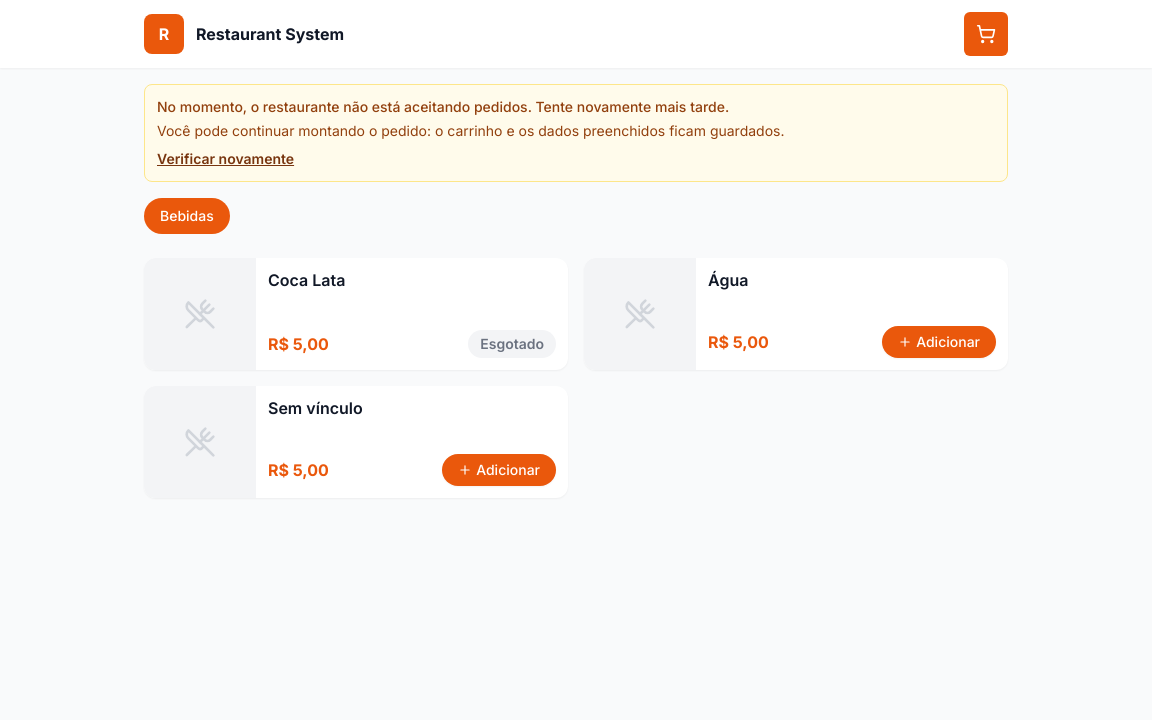
it: public checkout with the cash register closed › a lookup that fails after a closed answer stops blocking the finish button
The image size is (1152, 720).
Expected: the text "No momento, o restaurante não está aceitando pedidos. Tente novamente mais tarde." is shown, [157, 98, 729, 115]
Click the button "Adicionar" below "Água".
click(939, 342)  # box [882, 326, 996, 358]
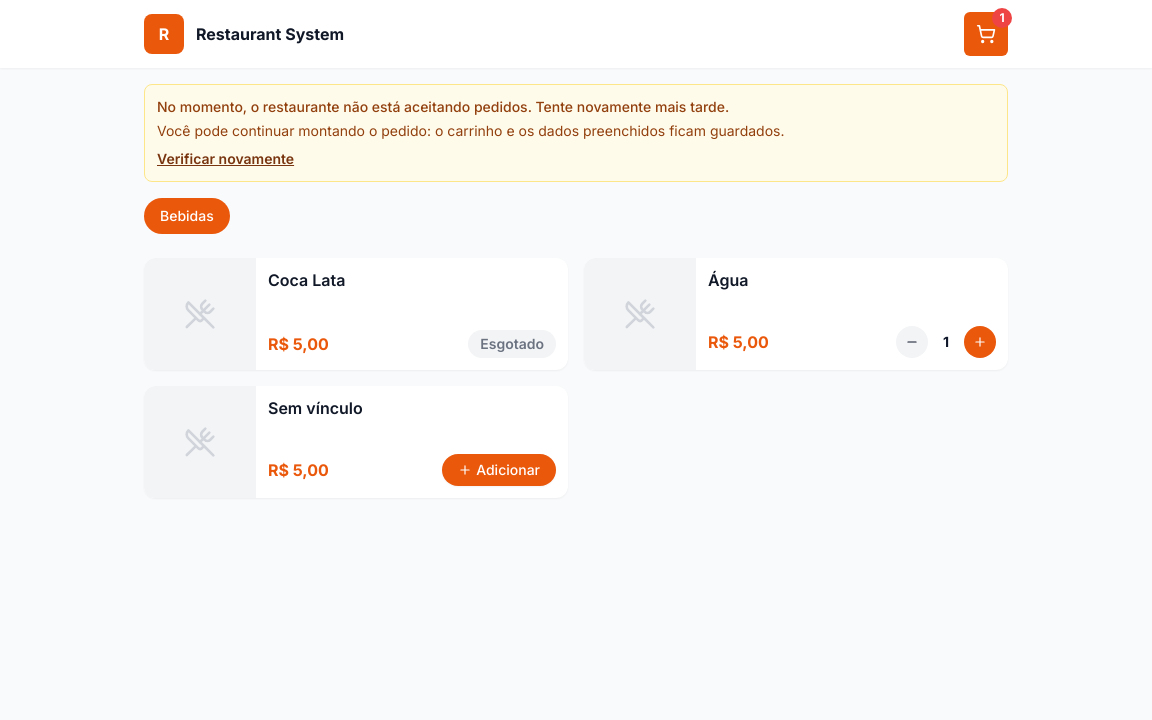
Click the button named "Abrir carrinho".
click(986, 34)  # box [964, 12, 1008, 56]
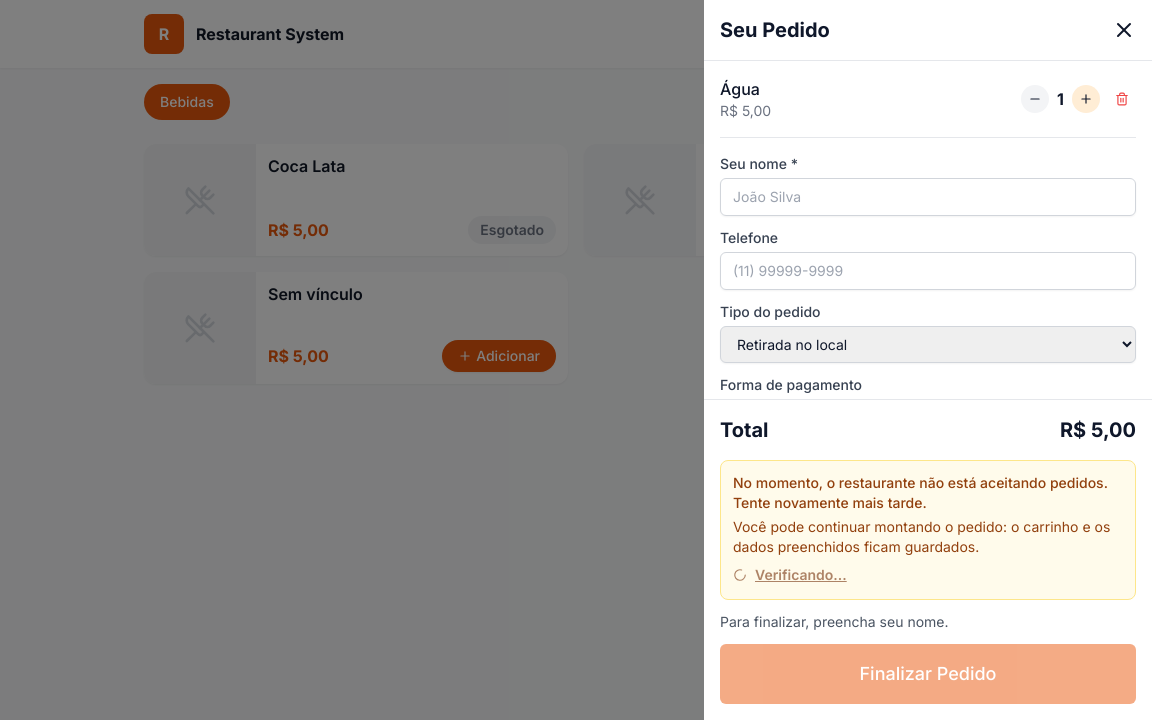
Type "Cliente" into the field labelled "Seu nome".
click(928, 197); type("Cliente")  # box [720, 178, 1136, 216]
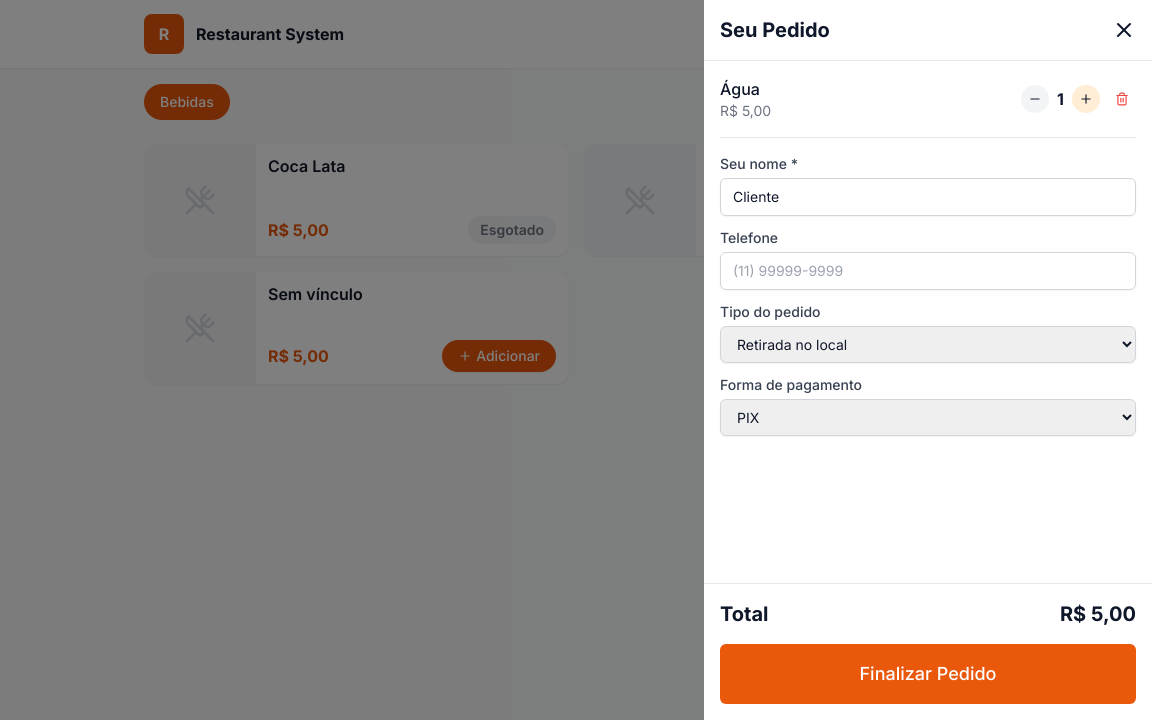
Expected: the button "Finalizar Pedido" is enabled, [720, 644, 1136, 704]
